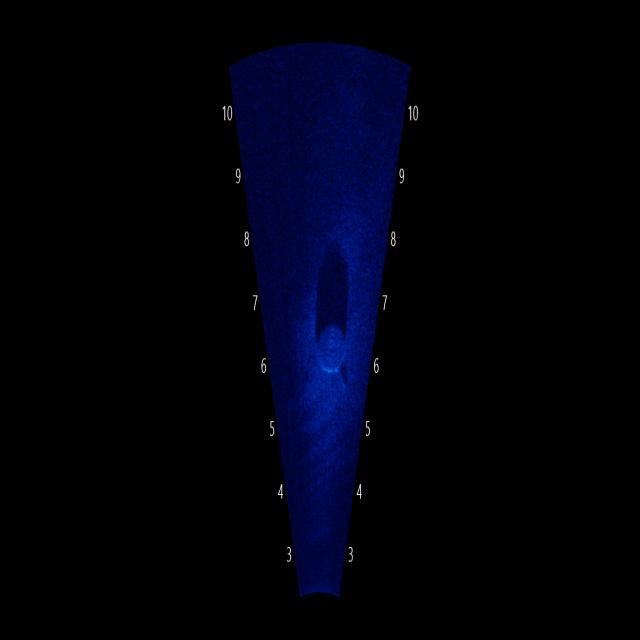circle: (314, 312, 350, 377)
